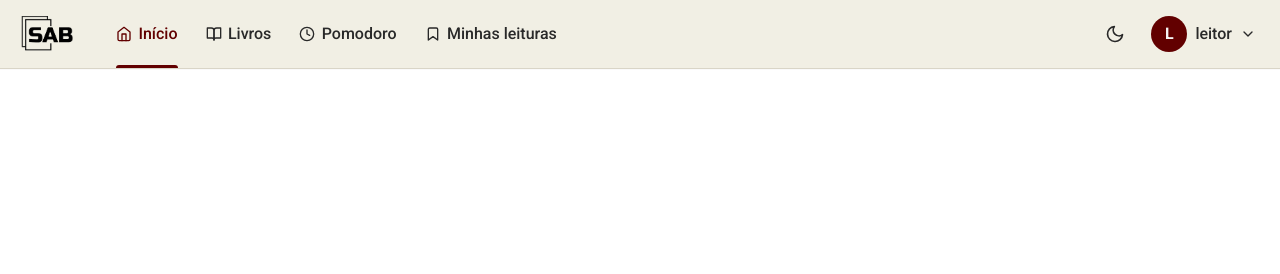
MyHeader › mostra as opções da conta para quem está logado
Click the button with aria-label "Menu de leitor" at (1206, 34), box [1147,12,1264,56]
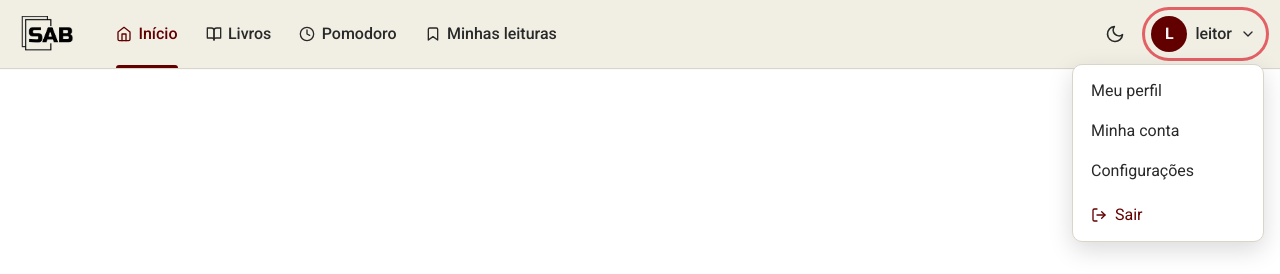
Expected: the link "Minhas leituras" is shown, [424,24,557,43]
Now the link "Meu perfil" is shown, box [1091,81,1162,100]
